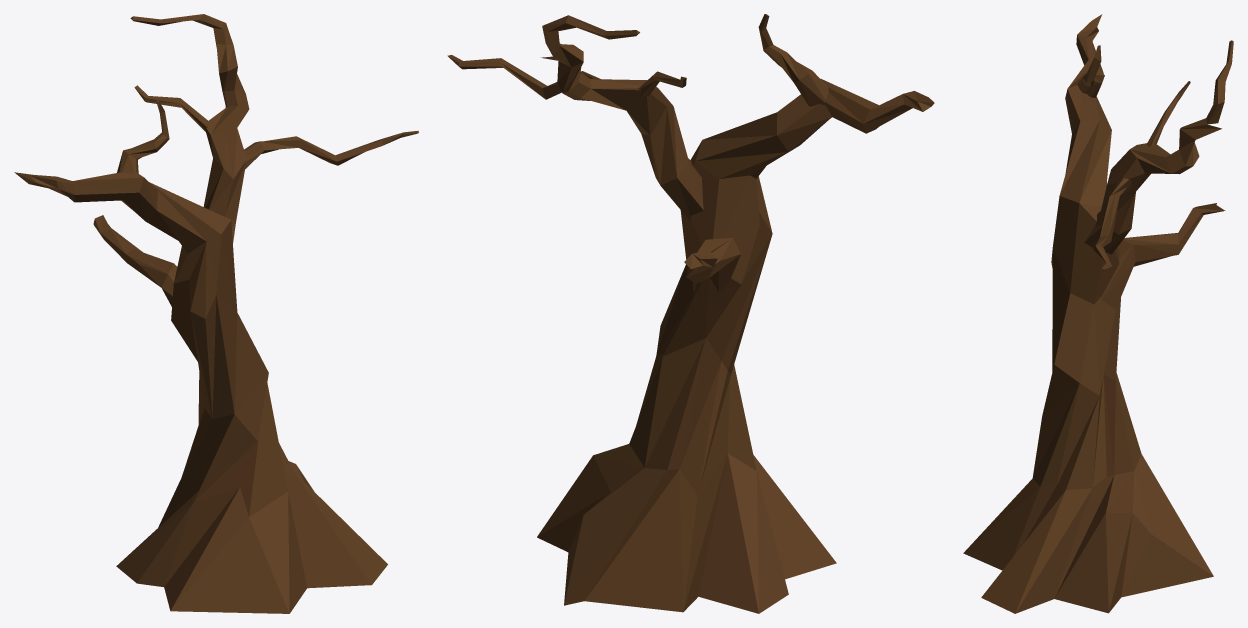
File: tree-juniper-dead-a.gltf
The picture shows the model from 3 angles, left to right: view 1: azimuth 30°, elevation 25°; view 2: azimuth 150°, elevation 25°; view 3: azimuth 270°, elevation 25°; orthographic projection. The views are drawn at different scales.
Visible parts, largest first — view 1: tree-juniper-dead-a; view 2: tree-juniper-dead-a; view 3: tree-juniper-dead-a.
Boxes of the visible parts, x1=… form: tree-juniper-dead-a: x1=14, y1=14, x2=418, y2=613; tree-juniper-dead-a: x1=447, y1=14, x2=934, y2=613; tree-juniper-dead-a: x1=963, y1=14, x2=1233, y2=613.
Bounding box in the file's own units: 0.0239 × 0.0284 × 0.0138.
